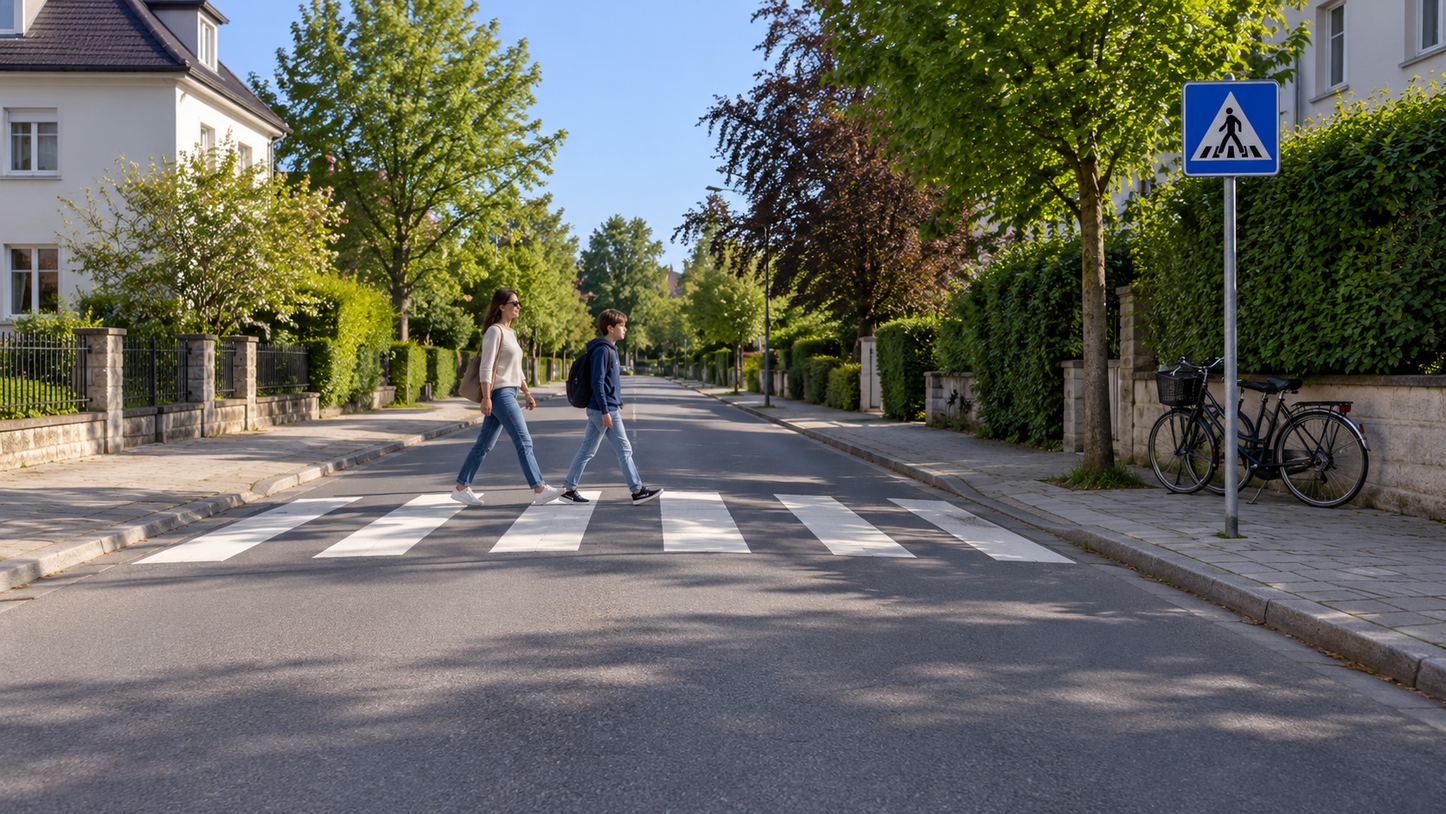bicycle: (1140, 359, 1380, 501), (65, 367, 251, 503)
crossing_warning_sign: (1171, 49, 1287, 177)
person: (450, 289, 549, 511), (578, 305, 681, 512)
zebra_crossing: (0, 478, 1141, 558)
